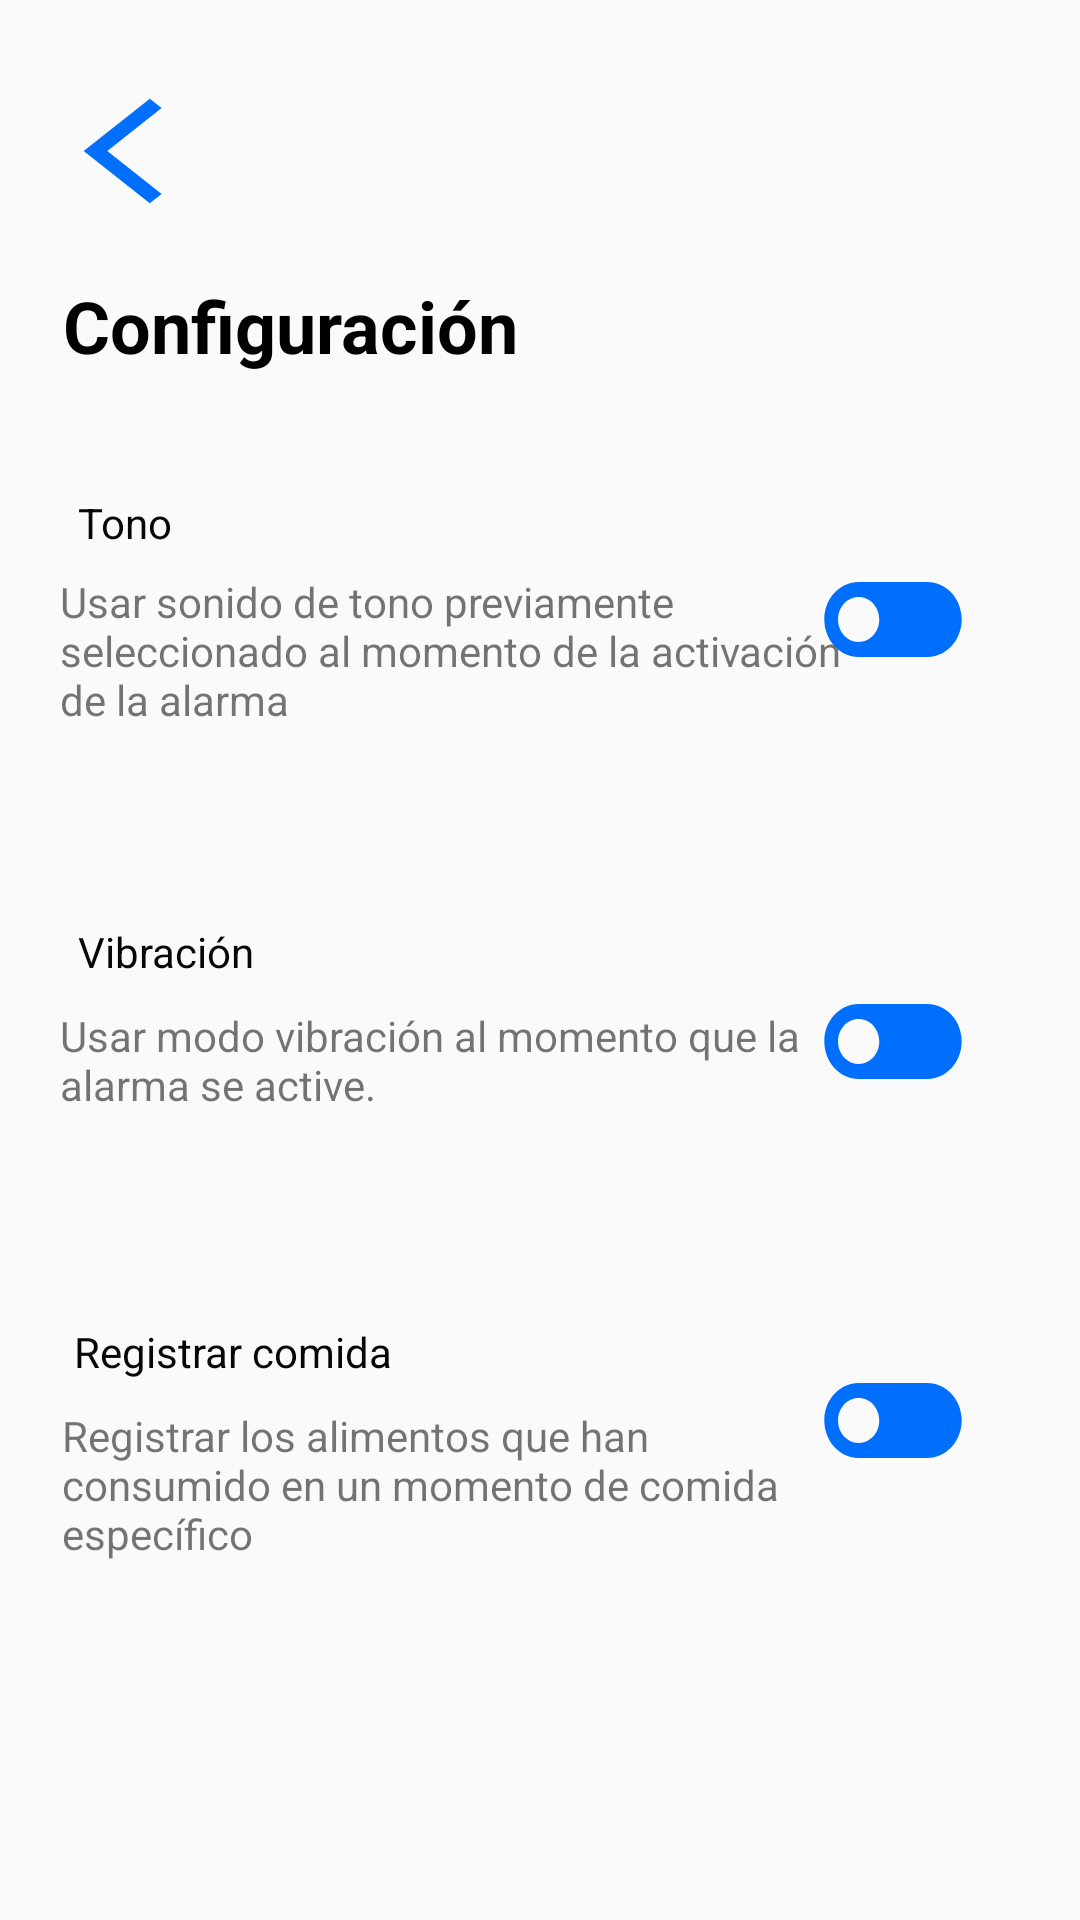

Named icons in this screenshot (1080 x 1920) and their centers, (x=x, y=y):
back: (x=123, y=151)
